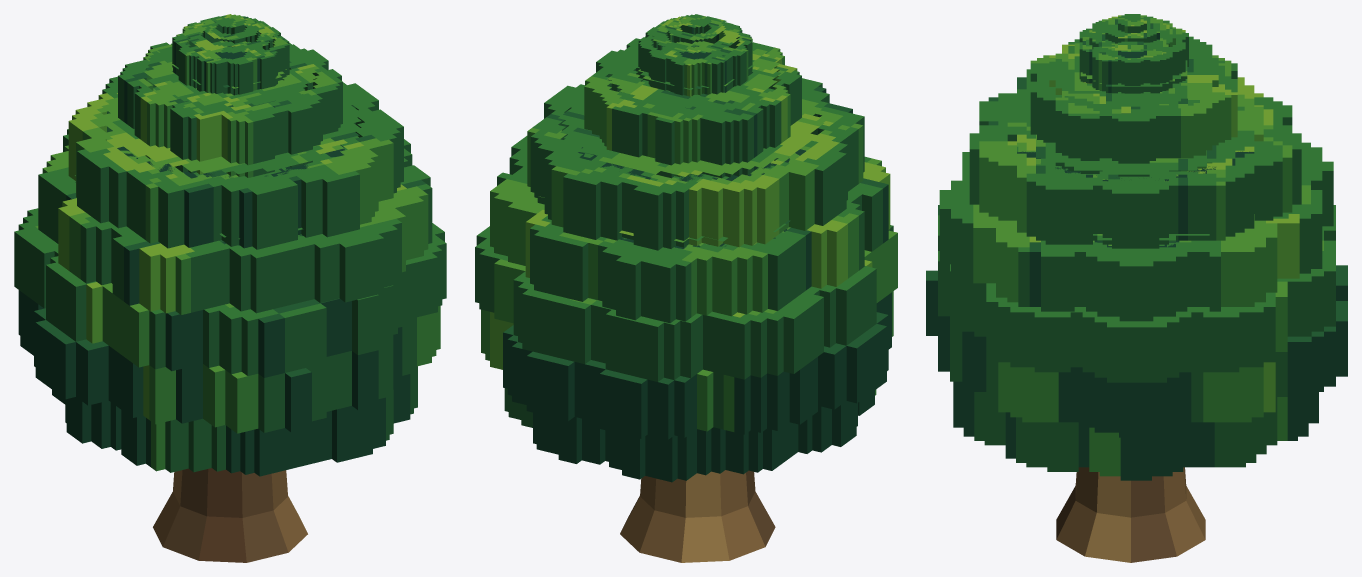
File: SM_Pixel_Tree_C.fbx
The picture shows the model from 3 angles, left to right: view 1: azimuth 30°, elevation 25°; view 2: azimuth 150°, elevation 25°; view 3: azimuth 270°, elevation 25°; orthographic projection.
Parts seen in each view (by area): view 1: SM_Pixel_Tree_C; view 2: SM_Pixel_Tree_C; view 3: SM_Pixel_Tree_C.
Boxes of the visible parts, x1,y1,x2,y2 form: SM_Pixel_Tree_C: [14, 14, 446, 562]; SM_Pixel_Tree_C: [475, 14, 897, 562]; SM_Pixel_Tree_C: [926, 14, 1347, 562].
Bounding box in the file's own units: 312 × 312 × 416.
Materials: 1 (1 with a texture image).
